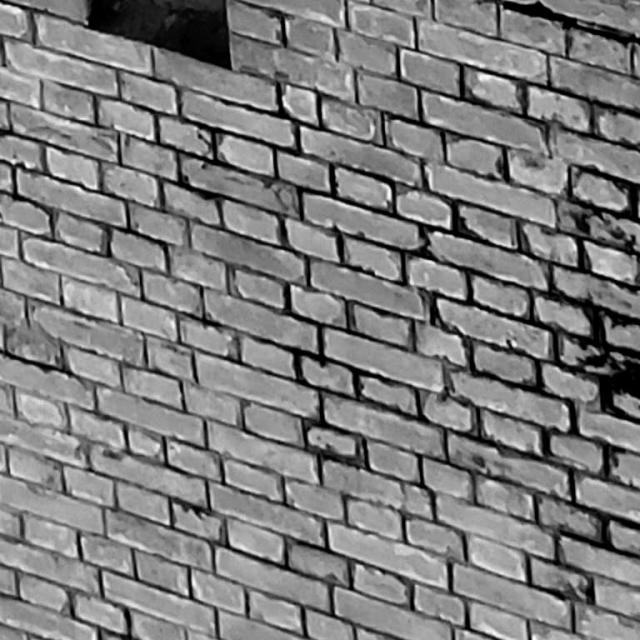crack: (502, 1, 638, 46)
